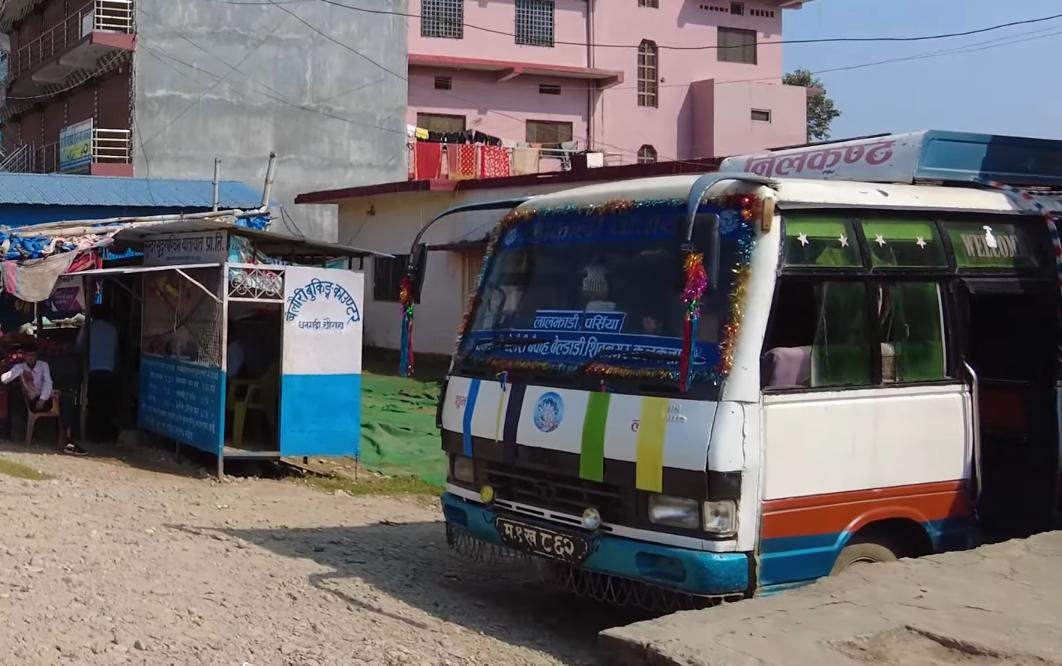bus: (354, 116, 1062, 612)
